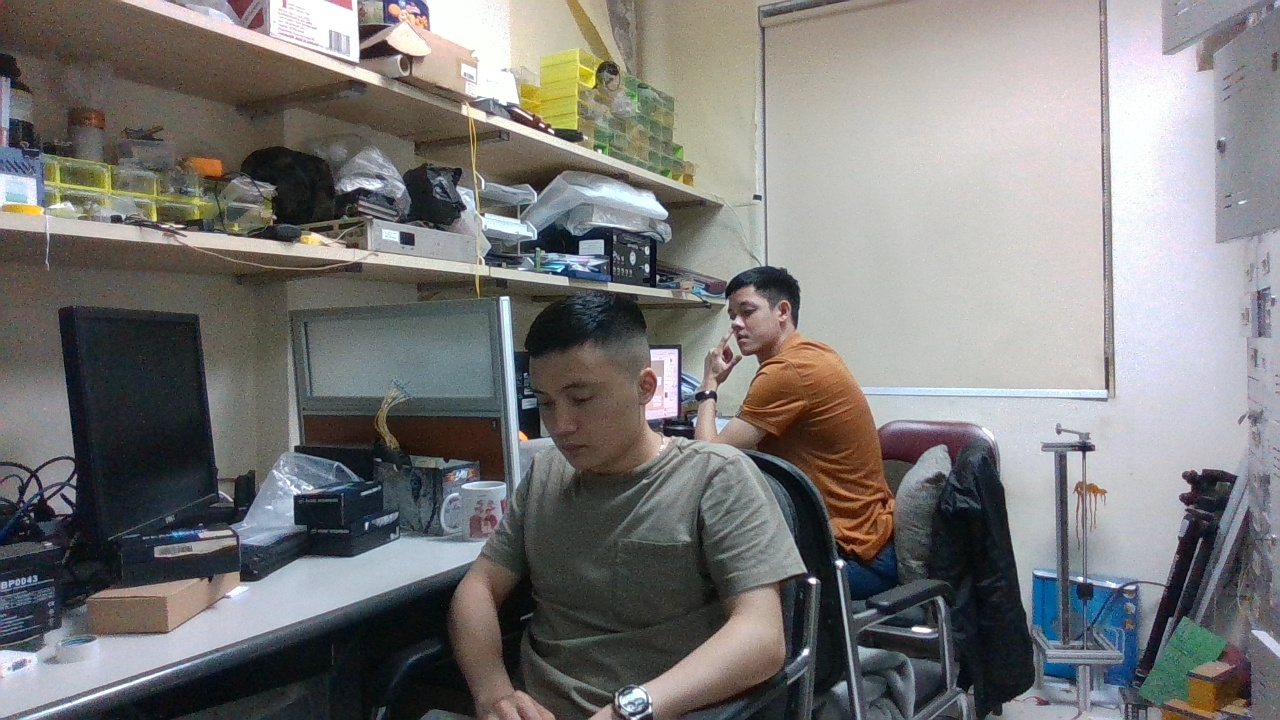person: (432, 282, 811, 720), (692, 256, 908, 610)
